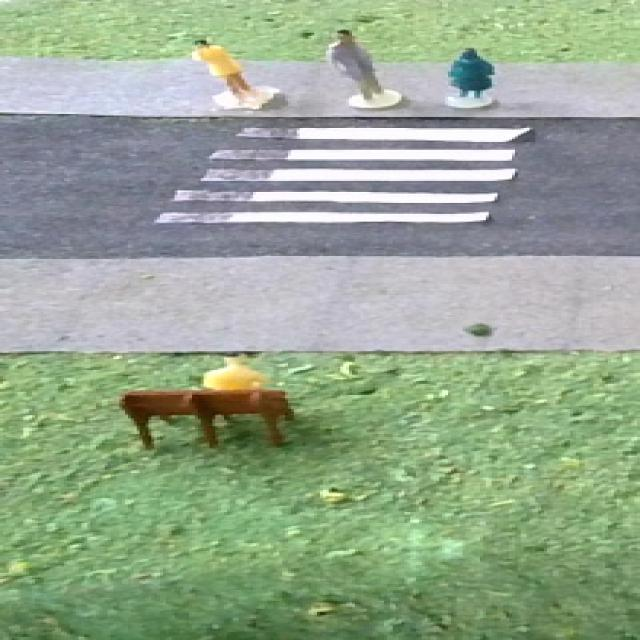person: (180, 31, 290, 113), (321, 21, 415, 114), (443, 44, 502, 112)
